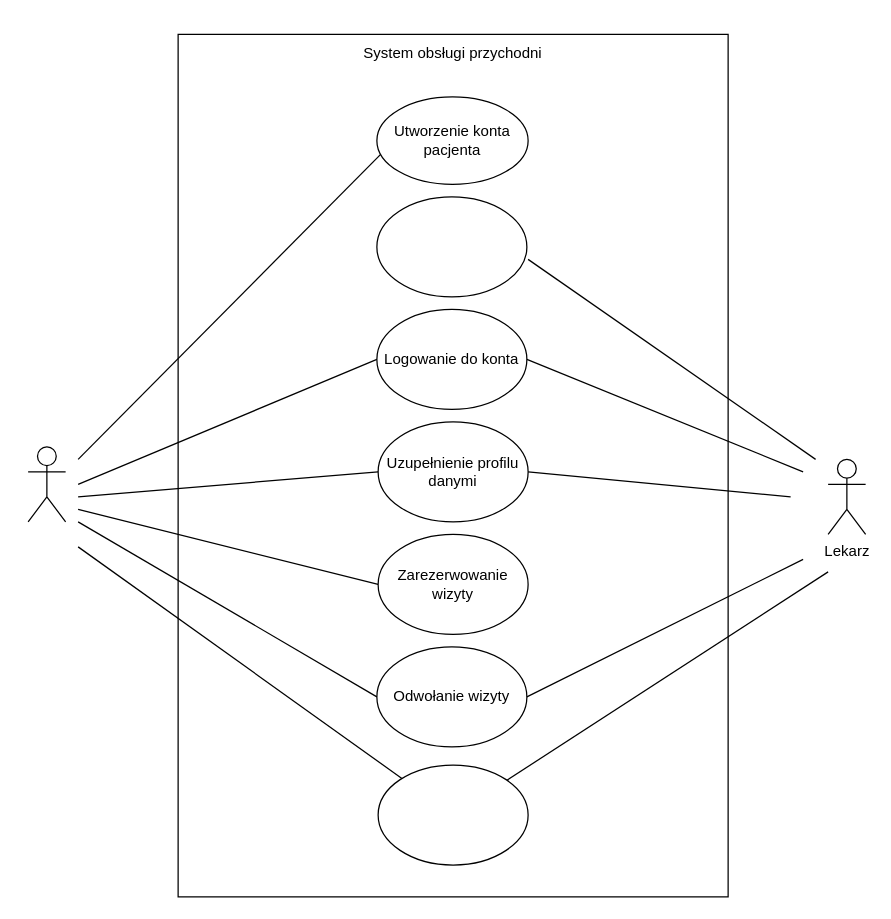
The diagram is 891 pixels wide and 919 high, and some of its shapes have lost their labels. Each missing label, with the centre of its shape:
"Pacjent" goes at (x=46, y=484).
"Przełożenie wizyty" goes at (x=452, y=814).
"Utworzenie konta lekarza" goes at (x=451, y=246).
